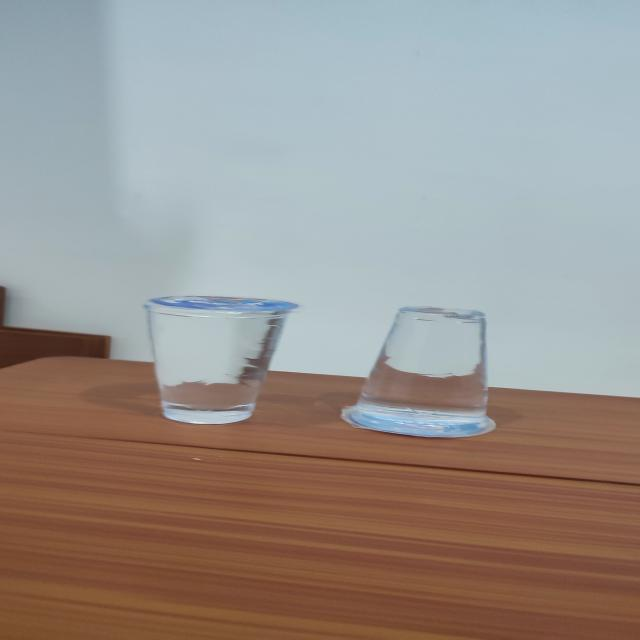air gelas: (333, 296, 509, 444), (128, 287, 309, 430)
